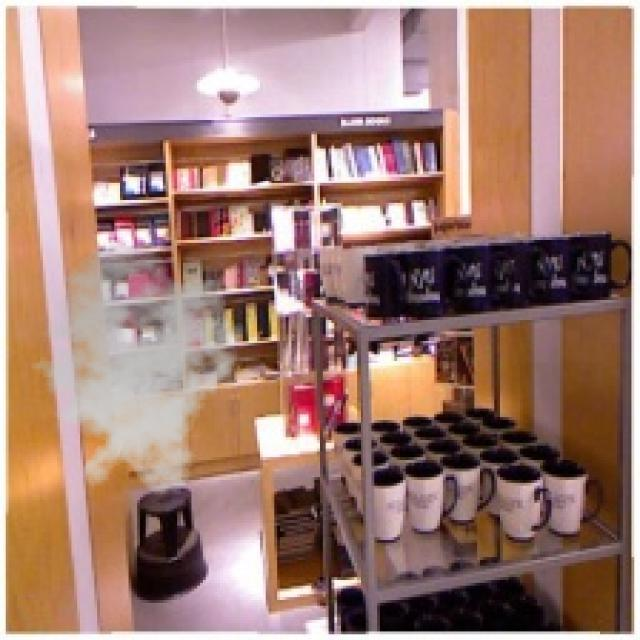Smoke: (20, 242, 252, 498)
